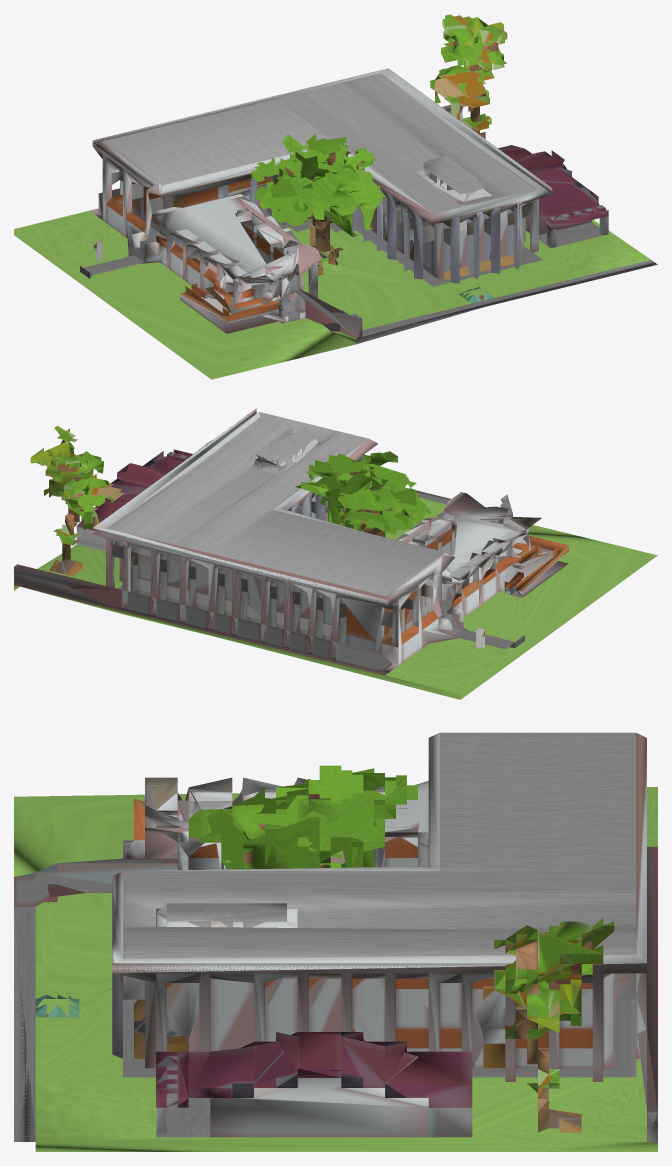
File: teste.glb
The picture shows the model from 3 angles, top to bottom: view 1: azimuth 30°, elevation 25°; view 2: azimuth 150°, elevation 25°; view 3: azimuth 270°, elevation 25°; orthographic projection. The views are drawn at different scales.
Visible parts, largest first — view 1: fepasa_chroma_(1)__-30_66_-37_to_46_255_21; view 2: fepasa_chroma_(1)__-30_66_-37_to_46_255_21; view 3: fepasa_chroma_(1)__-30_66_-37_to_46_255_21.
Part boxes in pixels (<box>): fepasa_chroma_(1)__-30_66_-37_to_46_255_21: <box>14,14,657,379</box>; fepasa_chroma_(1)__-30_66_-37_to_46_255_21: <box>14,408,657,699</box>; fepasa_chroma_(1)__-30_66_-37_to_46_255_21: <box>14,732,657,1151</box>.
Bounding box in the file's own units: 77 × 22 × 59.
Materials: 61 (61 with a texture image).
